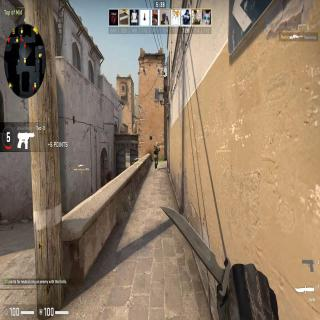CT-Body: (153, 142, 160, 165)
CT-Head: (156, 142, 159, 146)
